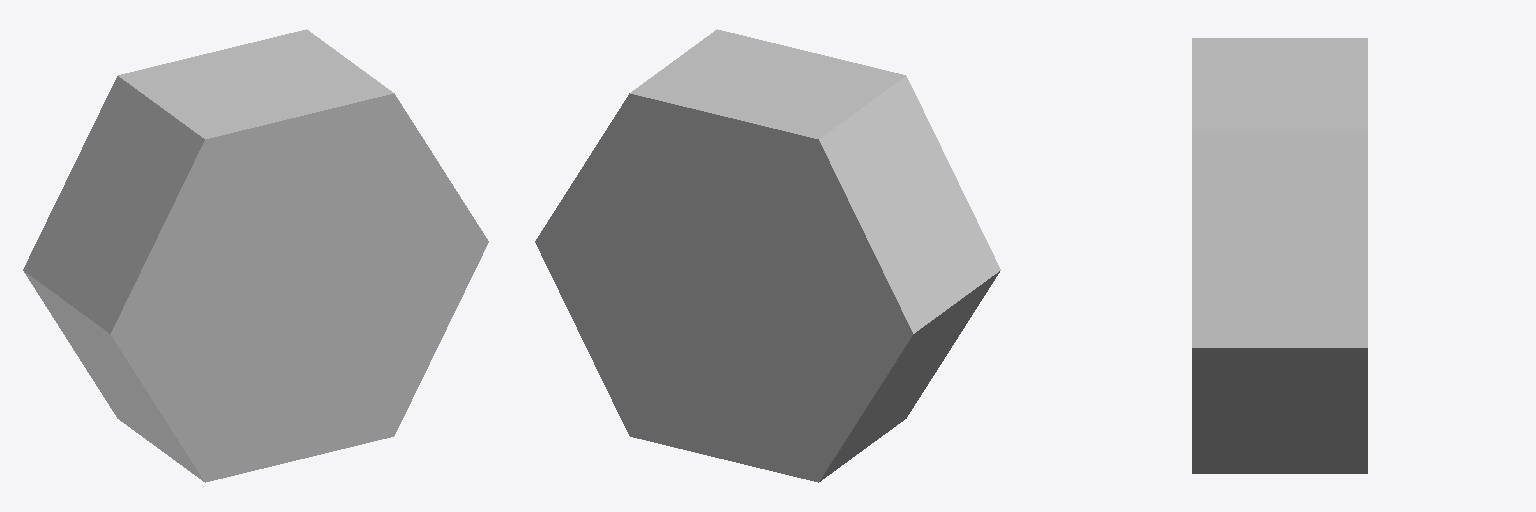
The model's file is ButterflyNutS.obj.
The picture shows the model from 3 angles: view 1: azimuth 30°, elevation 25°; view 2: azimuth 150°, elevation 25°; view 3: azimuth 270°, elevation 25°; orthographic projection.
Visible parts, largest first — view 1: pCylinder2; view 2: pCylinder2; view 3: pCylinder2.
Boxes of the visible parts, x1,y1,x2,y2 form: pCylinder2: [23, 29, 488, 482]; pCylinder2: [535, 29, 1000, 482]; pCylinder2: [1192, 38, 1367, 473].
Size of the model in its own units: 0.9454 by 0.8187 by 0.3788.